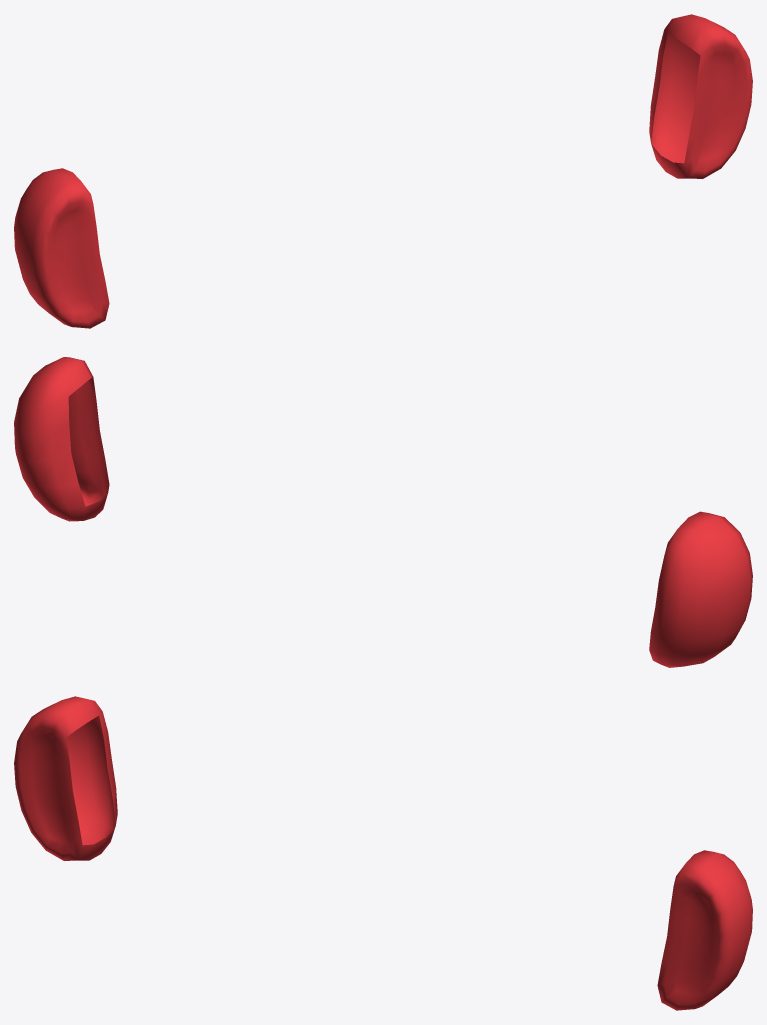
Rendered from Ears_01.glb.
3 renders of one model, top to bottom at view 1: azimuth 30°, elevation 25°; view 2: azimuth 150°, elevation 25°; view 3: azimuth 330°, elevation 25°, orthographic.
Parts seen in each view (by area): view 1: Ears_01; view 2: Ears_01; view 3: Ears_01.
Boxes of the visible parts, x1,y1,x2,y2 form: Ears_01: [14, 14, 752, 328]; Ears_01: [14, 357, 752, 667]; Ears_01: [14, 696, 752, 1010].
Size of the model in its own units: 0.6554 by 0.1295 by 0.076.
Materials: 1 (1 with a texture image).
